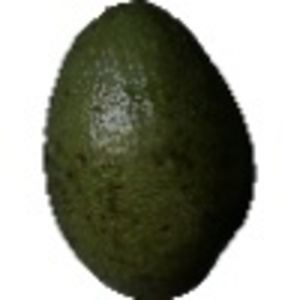abacate: (36, 1, 258, 299)
